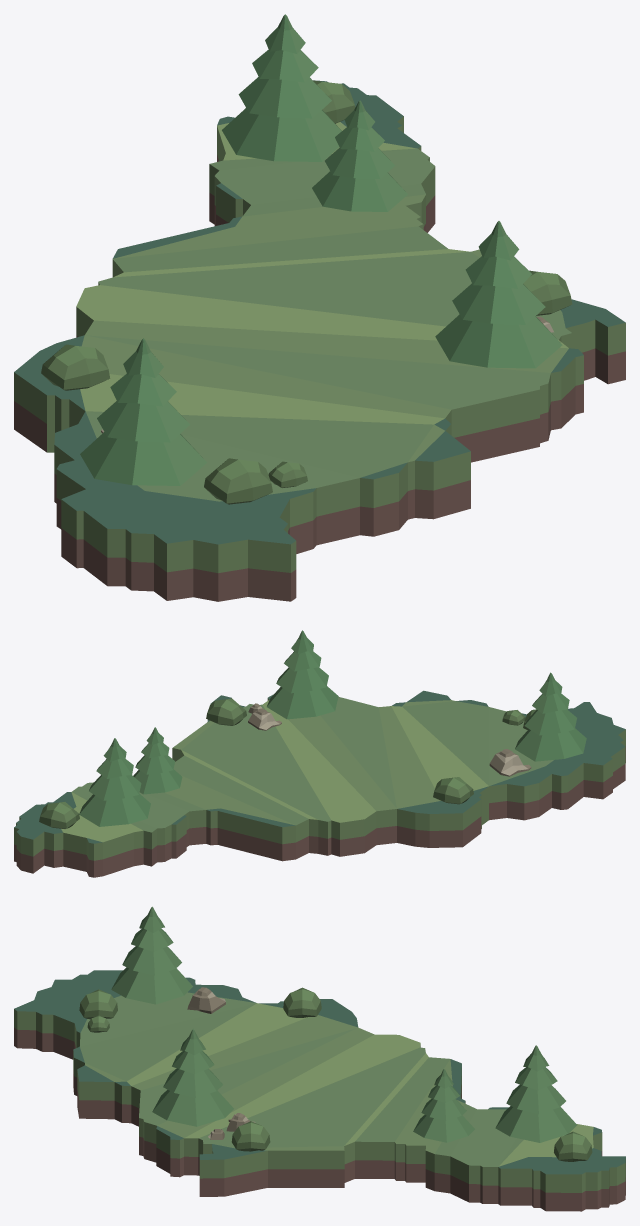
File: ustmaya.gltf
The picture shows the model from 3 angles, top to bottom: view 1: azimuth 30°, elevation 25°; view 2: azimuth 150°, elevation 25°; view 3: azimuth 270°, elevation 25°; orthographic projection. The views are drawn at different scales.
Visible parts, largest first — view 1: усть-мая; view 2: усть-мая; view 3: усть-мая.
Boxes of the visible parts, left/top/right/bottom form: усть-мая: left=14, top=14, right=625, bottom=601; усть-мая: left=14, top=630, right=625, bottom=877; усть-мая: left=14, top=906, right=625, bottom=1211.
Bounding box in the file's own units: 1.85 × 0.5325 × 2.33.
